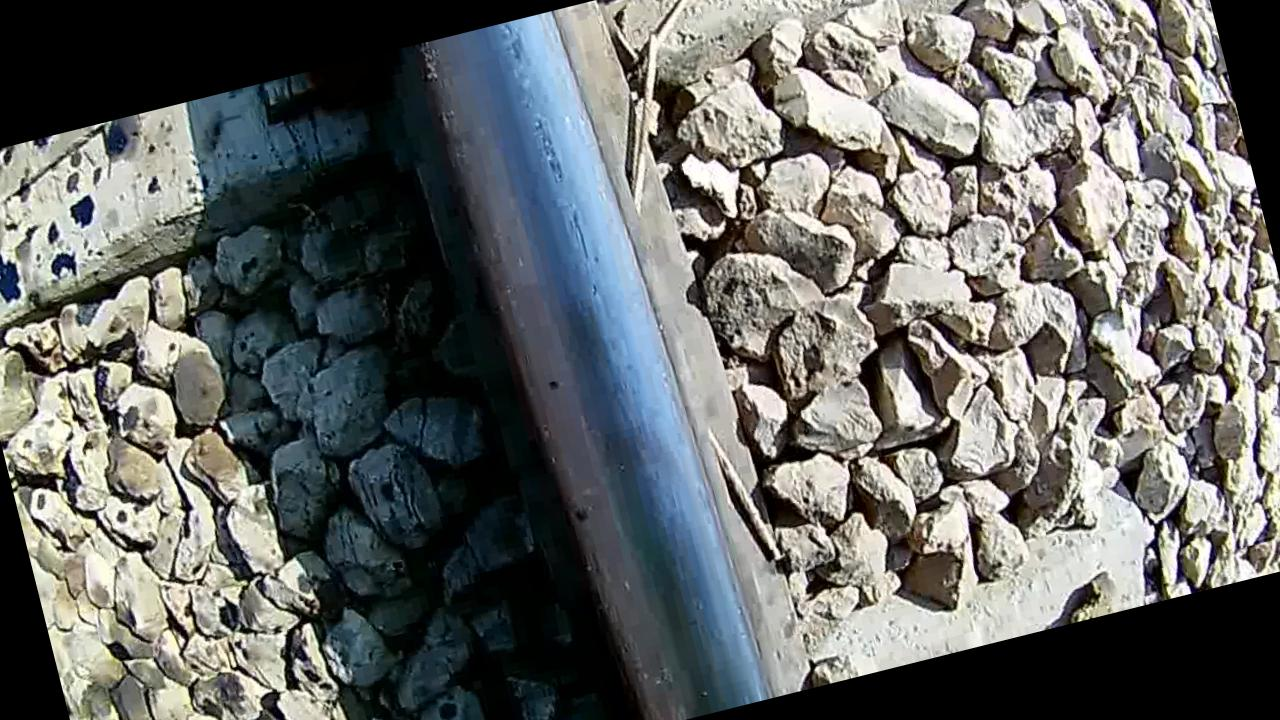crack: (412, 6, 746, 720)
